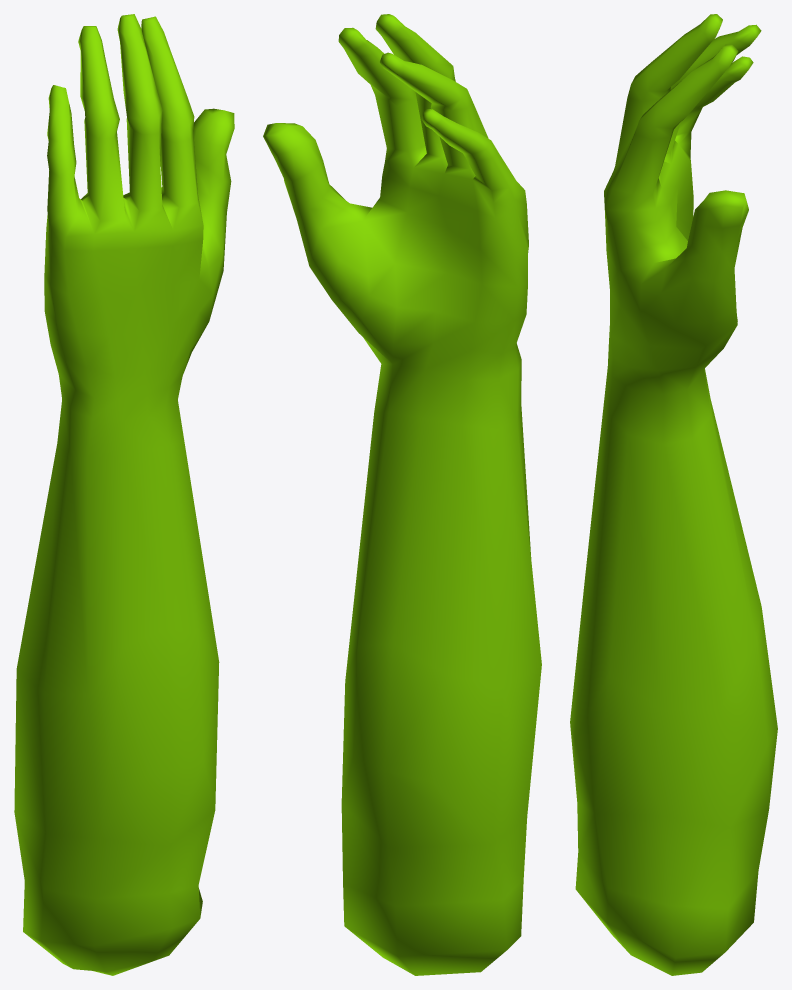
File: DominoSavant.glb
3 views of the same model, side by side, from view 1: azimuth 30°, elevation 25°; view 2: azimuth 150°, elevation 25°; view 3: azimuth 270°, elevation 25° (orthographic). The views are drawn at different scales.
Visible parts, largest first — view 1: Circle.001; view 2: Circle.001; view 3: Circle.001.
Boxes of the visible parts, x1,y1,x2,y2 form: Circle.001: [14, 14, 234, 975]; Circle.001: [263, 14, 541, 975]; Circle.001: [570, 14, 777, 975].
Size of the model in its own units: 0.2726 by 1.06 by 0.2082.
